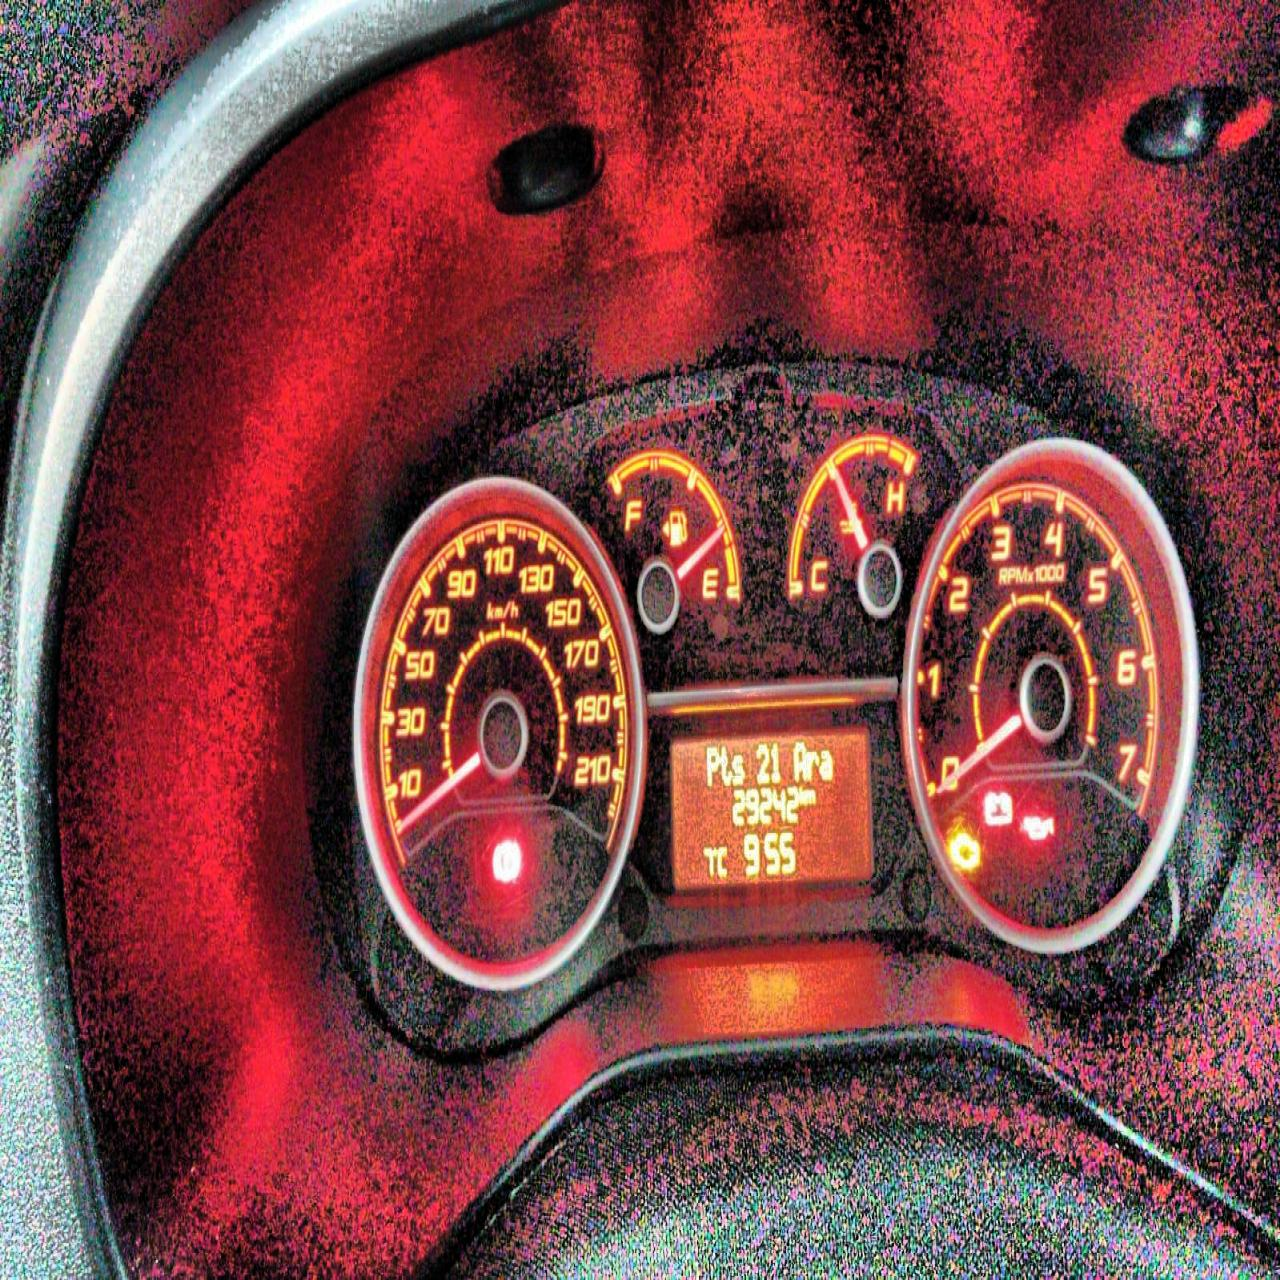1: (771, 735, 782, 782)
2: (756, 738, 770, 784), (731, 788, 745, 830), (760, 784, 772, 828), (787, 784, 797, 825)
4: (772, 787, 784, 823)
5: (779, 829, 796, 874), (763, 830, 779, 874)
7: (703, 842, 713, 880)
9: (743, 830, 760, 880), (745, 783, 760, 828)
X: (706, 743, 719, 790), (792, 742, 806, 782), (719, 742, 730, 788), (819, 744, 833, 782), (731, 749, 745, 787), (716, 843, 728, 881), (806, 748, 819, 781)
odometer: (667, 722, 877, 884)
